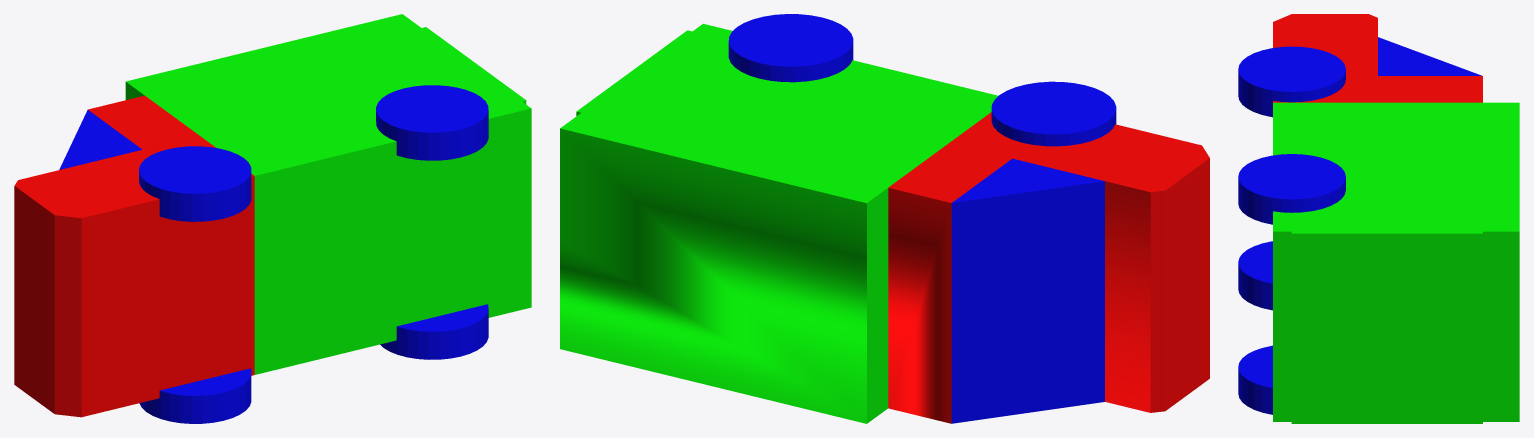
The model's file is ToyTrack.fbx.
3 renders of one model, left to right at view 1: azimuth 30°, elevation 25°; view 2: azimuth 150°, elevation 25°; view 3: azimuth 270°, elevation 25°, orthographic. The views are drawn at different scales.
Parts seen in each view (by area): view 1: ToyTrack; view 2: ToyTrack; view 3: ToyTrack.
Part boxes in pixels (x1,y1,x2,y2): ToyTrack: [14, 14, 531, 423]; ToyTrack: [560, 14, 1209, 423]; ToyTrack: [1238, 14, 1519, 423].
Size of the model in its own units: 143 by 67.45 by 77.15.
